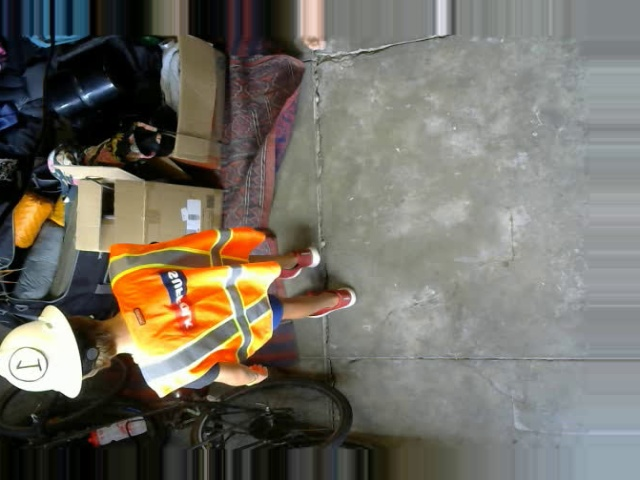one: (8, 347, 45, 381)
